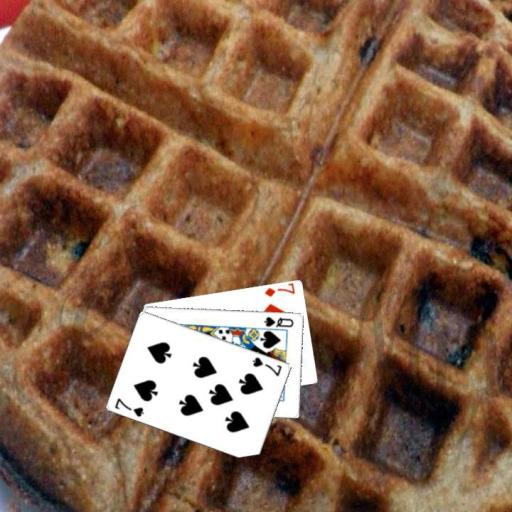7D: (262, 281, 297, 298)
7S: (250, 354, 284, 378), (112, 395, 146, 418)
QS: (261, 313, 295, 328)
